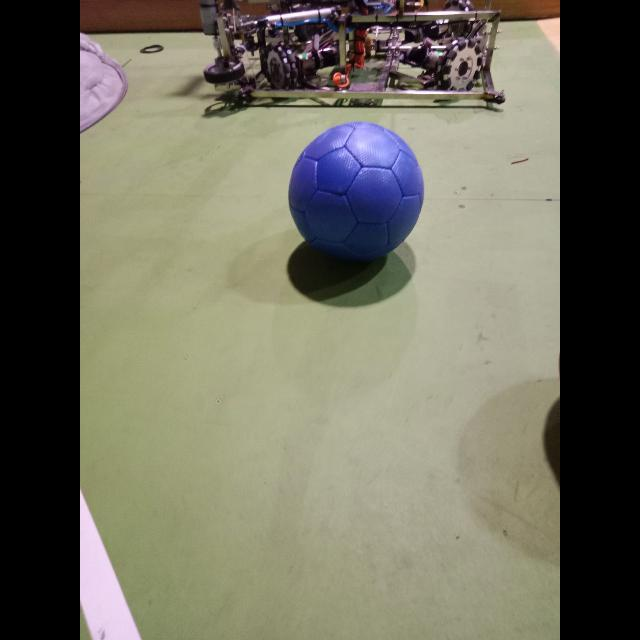B: (288, 122, 424, 262)
